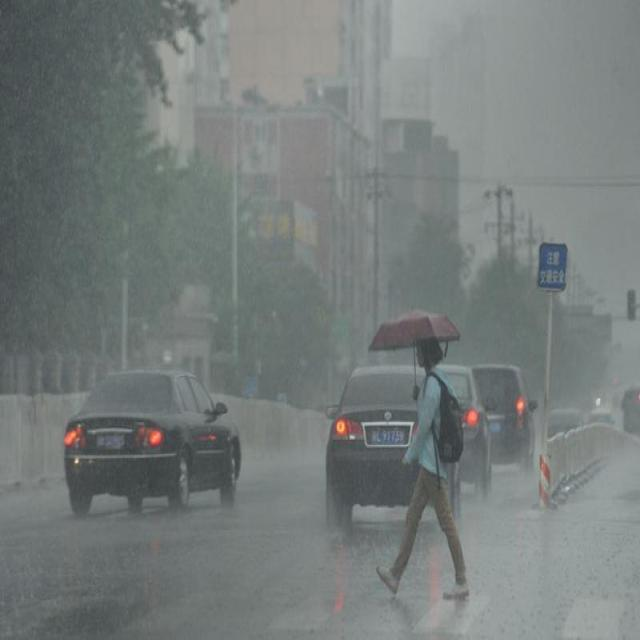car: (61, 367, 241, 510), (322, 364, 464, 524), (408, 366, 496, 492), (462, 362, 538, 474), (548, 408, 586, 446)
